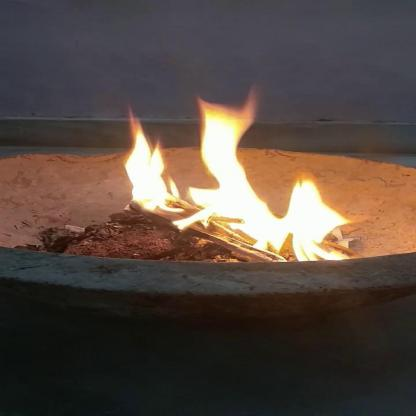fire: (110, 87, 359, 268)
